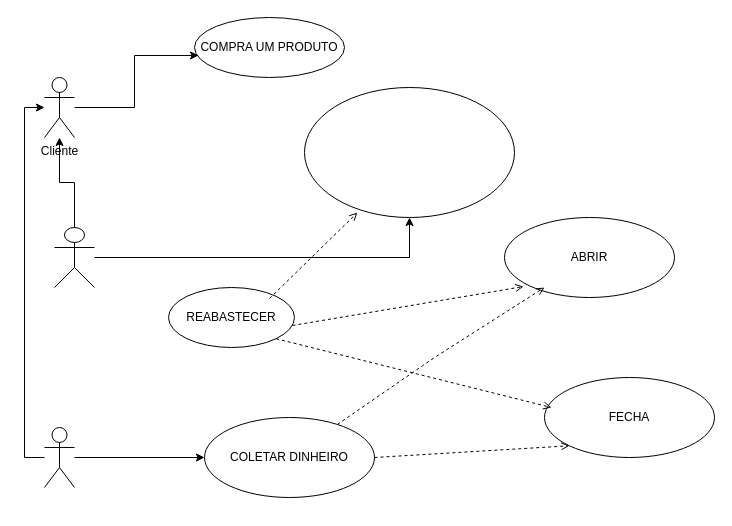
Image size: 732x526. Some labels were removed from this diagram. Here are the shapes that lost their labels. From the top down, the centre of each, then its label:
At [409,152]: "Reabastecer Extension Points Completar os compartimentos".
At [74,257]: "Reabastecedor".
At [59,457]: "Coletor".
